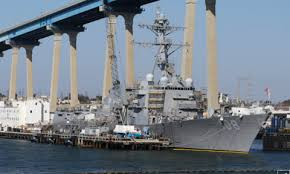tau_muctieu: (53, 34, 259, 156)
